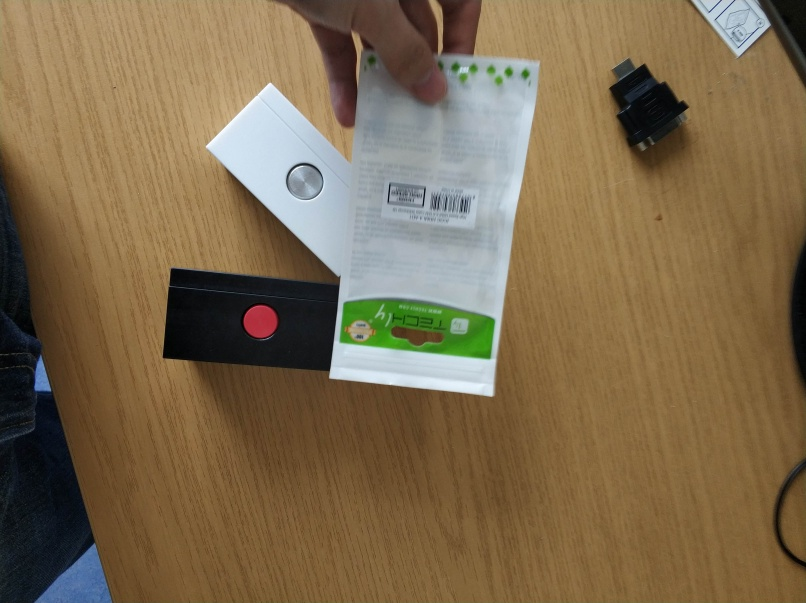black+black+red: (159, 270, 340, 373)
white+white+silver: (202, 82, 353, 281)
